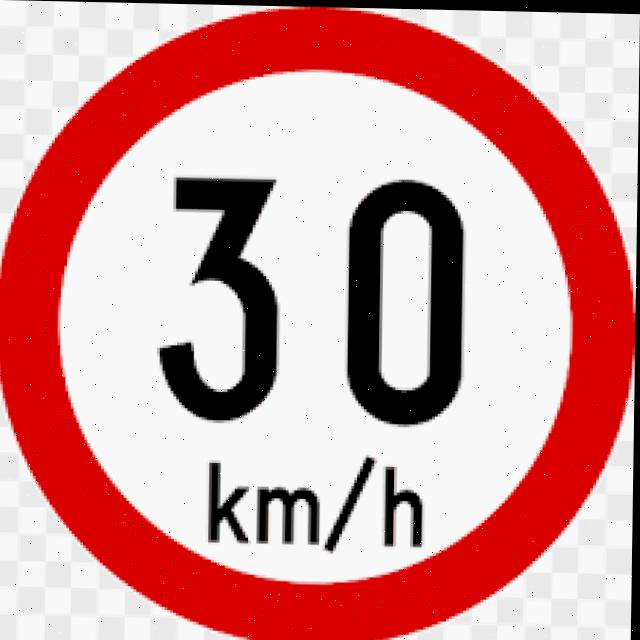Speed limit 30: (1, 1, 638, 640)
